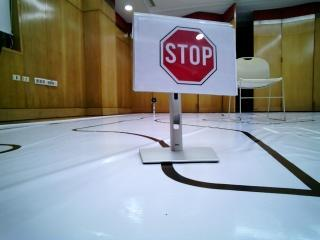stop: (147, 20, 227, 83)
